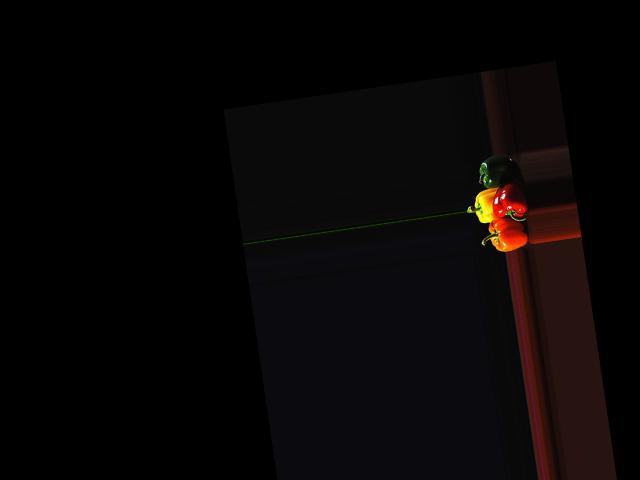bell_pepper: (482, 213, 535, 254)
